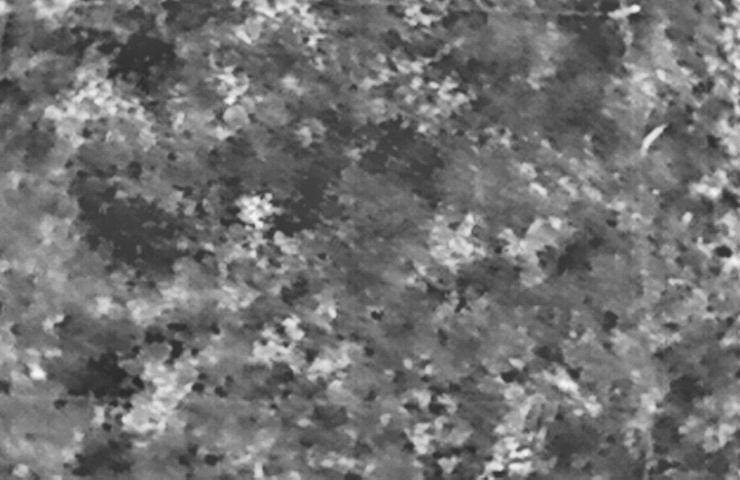landmines: (238, 193, 286, 231)
